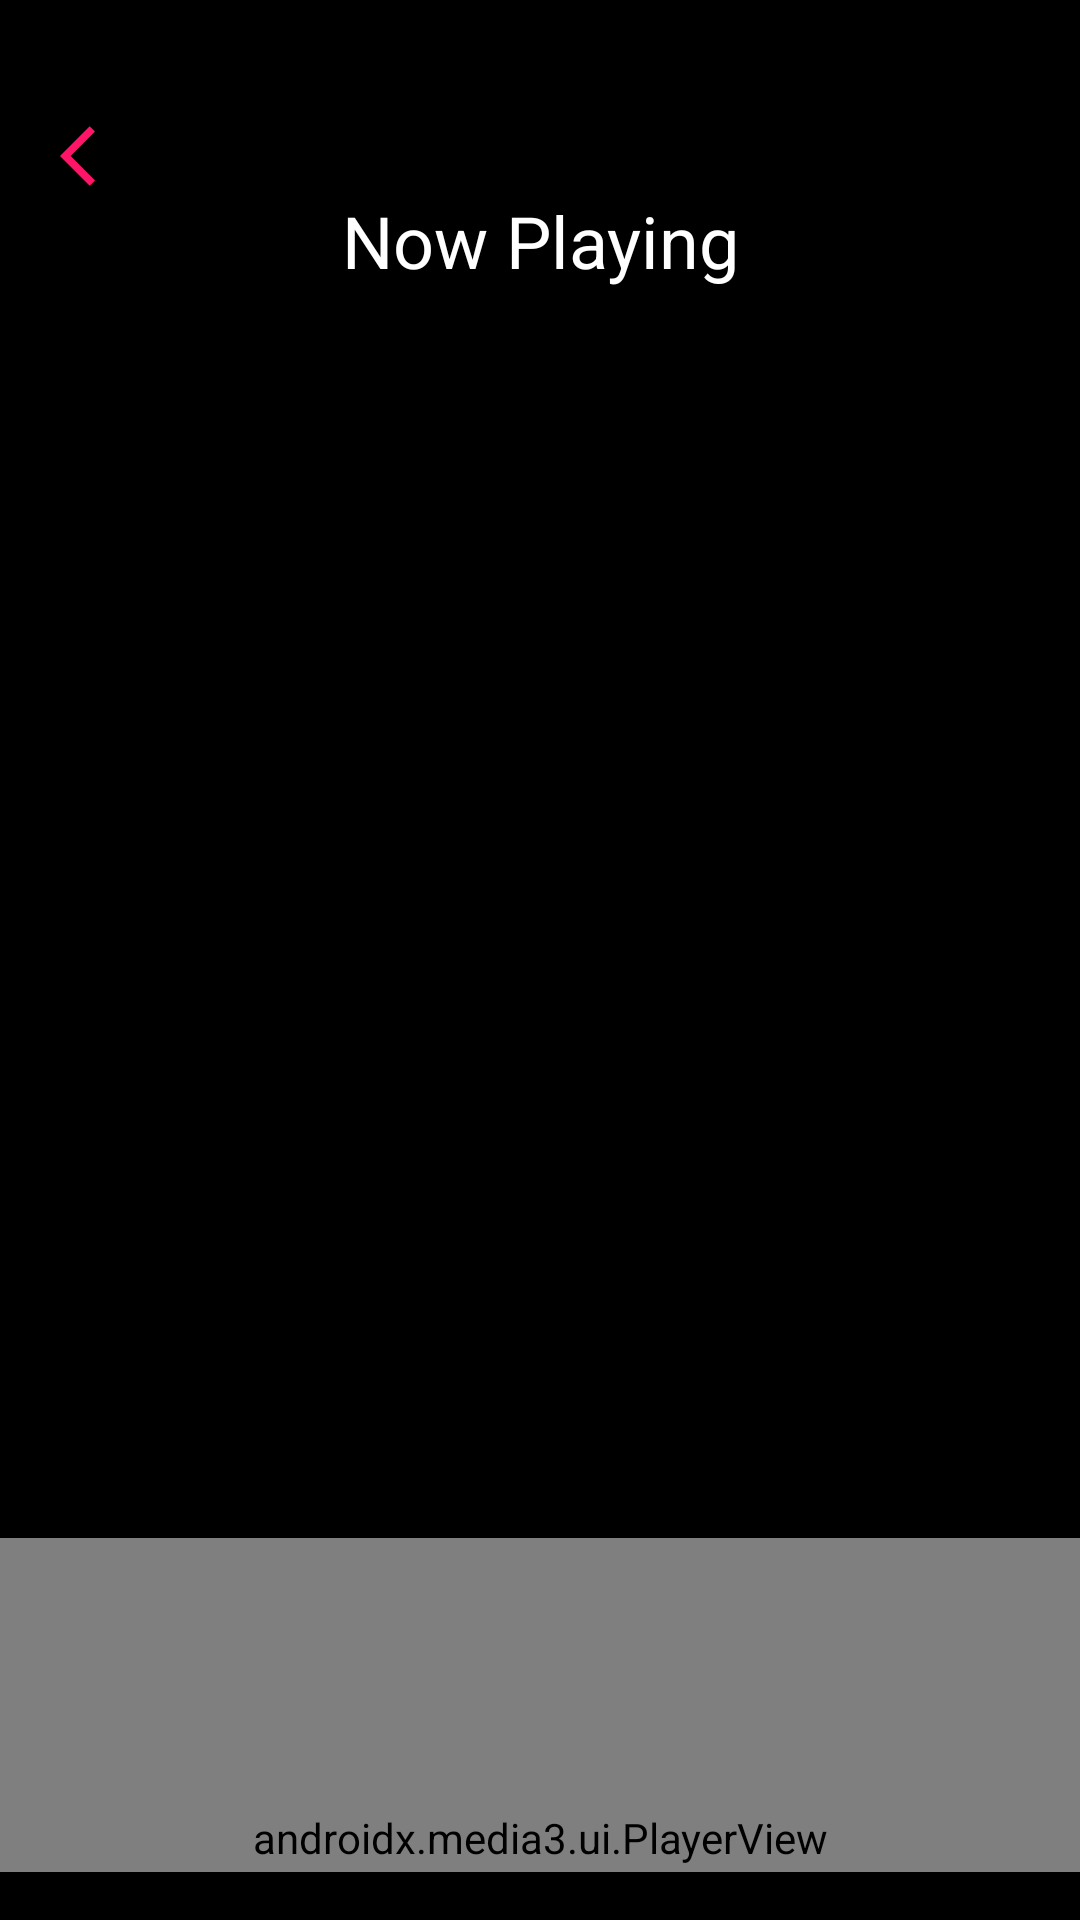

Named icons in this screenshot (1080px x 1920px) and their centers, (x=x, y=y):
arrow back: (x=77, y=156)
